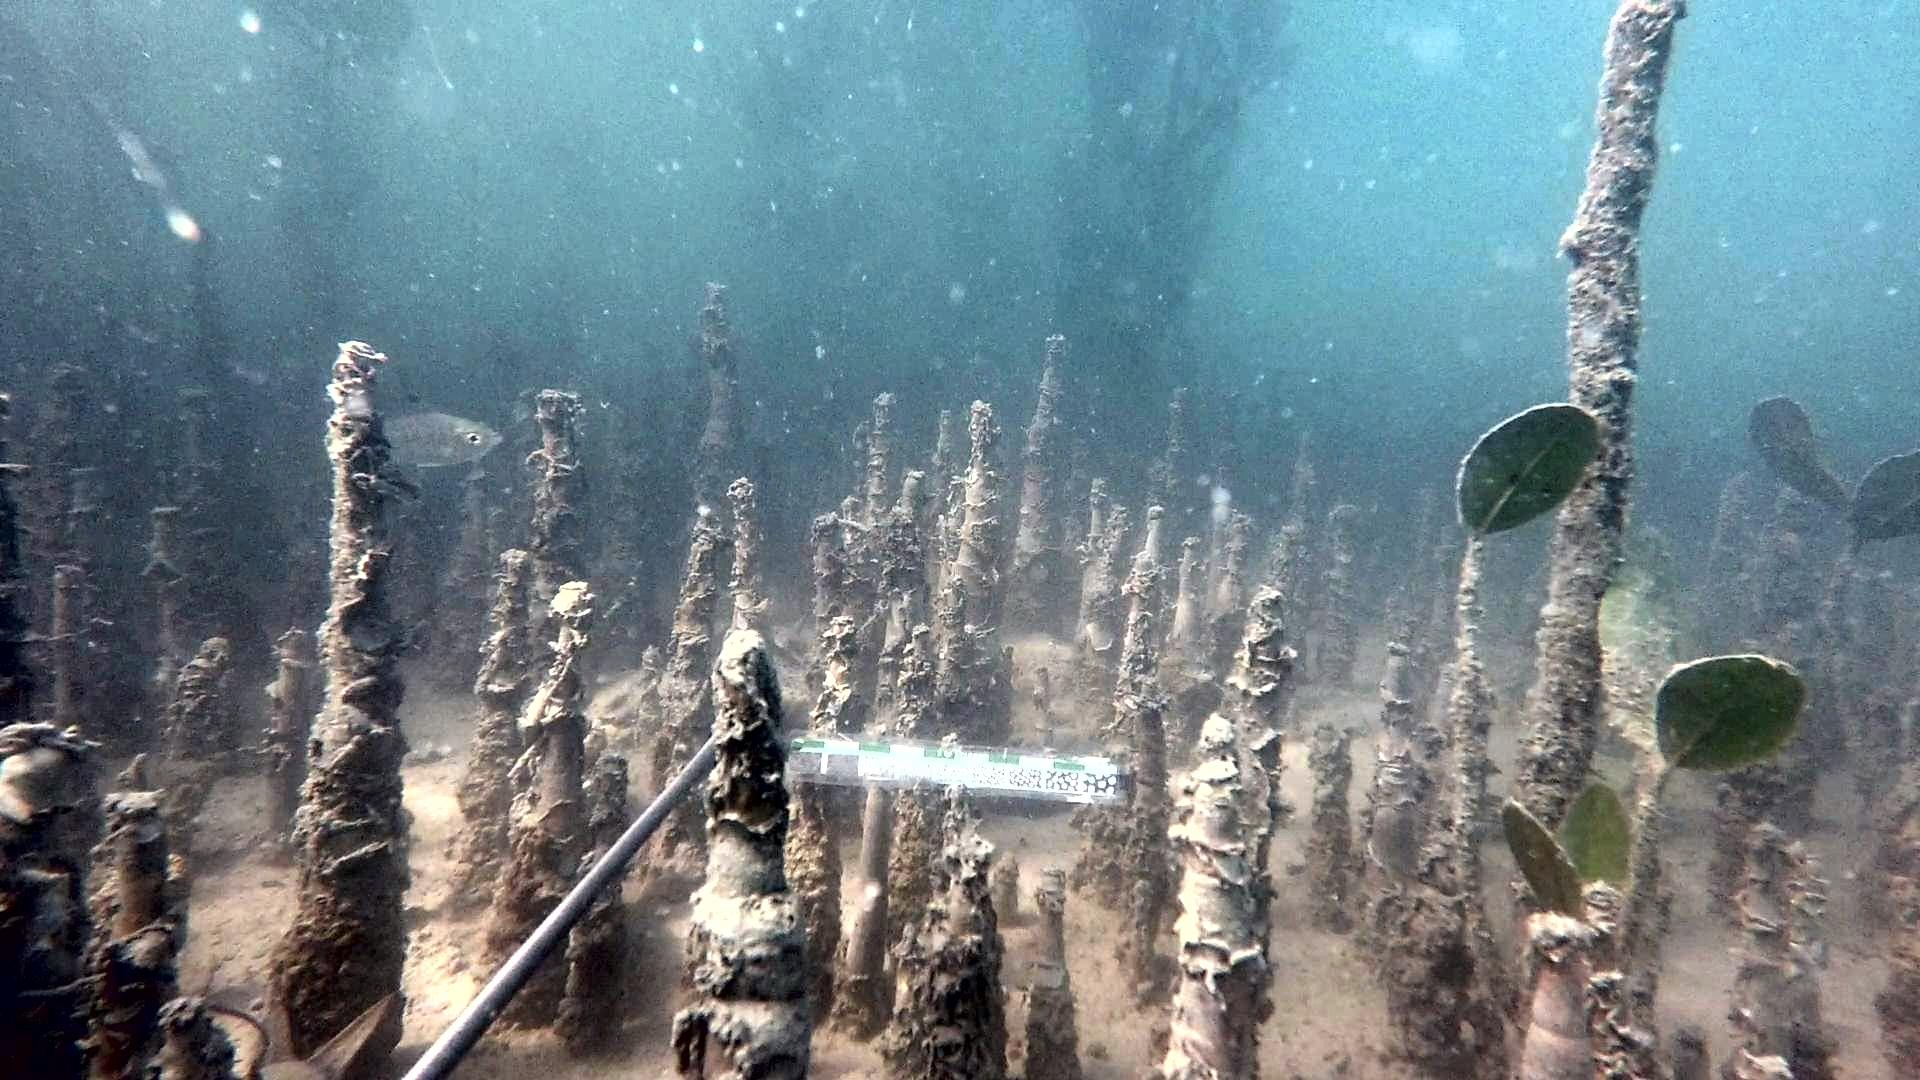gerres: (388, 386, 505, 475)
